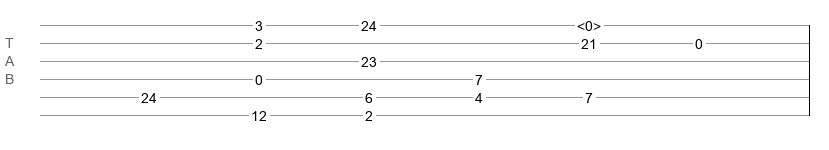0: (255, 72, 263, 82), (695, 36, 703, 46)
12: (251, 108, 267, 118)
2: (255, 36, 263, 46), (365, 108, 373, 118)
21: (581, 36, 597, 46)
23: (361, 54, 377, 64)
24: (141, 90, 157, 100), (361, 18, 377, 28)
3: (255, 18, 263, 28)
4: (475, 90, 483, 100)
6: (365, 90, 373, 100)
7: (475, 72, 483, 82), (585, 90, 593, 100)
harmonic: (577, 18, 601, 28)
